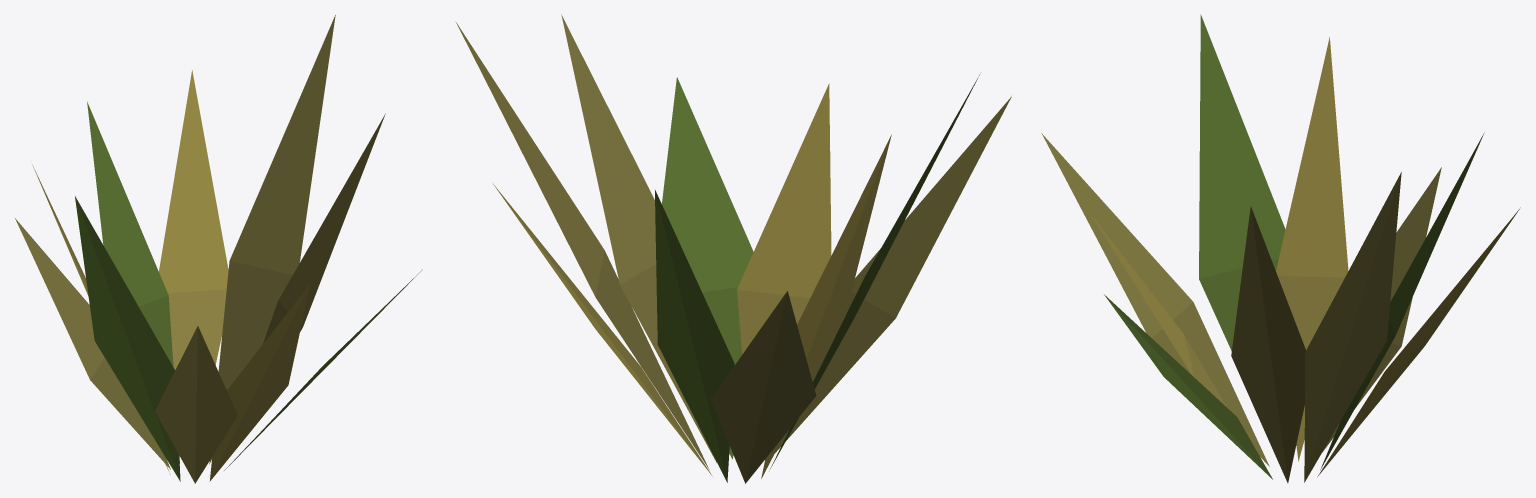
File: E9_grass_tuft_b.glb
3 renders of one model, left to right at view 1: azimuth 30°, elevation 25°; view 2: azimuth 150°, elevation 25°; view 3: azimuth 270°, elevation 25°, orthographic. The views are drawn at different scales.
Visible parts, largest first — view 1: E9_grass_tuft_b; view 2: E9_grass_tuft_b; view 3: E9_grass_tuft_b.
Boxes of the visible parts, left/top/right/bottom form: E9_grass_tuft_b: left=15, top=15, right=422, bottom=483; E9_grass_tuft_b: left=455, top=14, right=1011, bottom=483; E9_grass_tuft_b: left=1041, top=14, right=1520, bottom=483.
Bounding box in the file's own units: 0.2967 × 0.3 × 0.3255.
